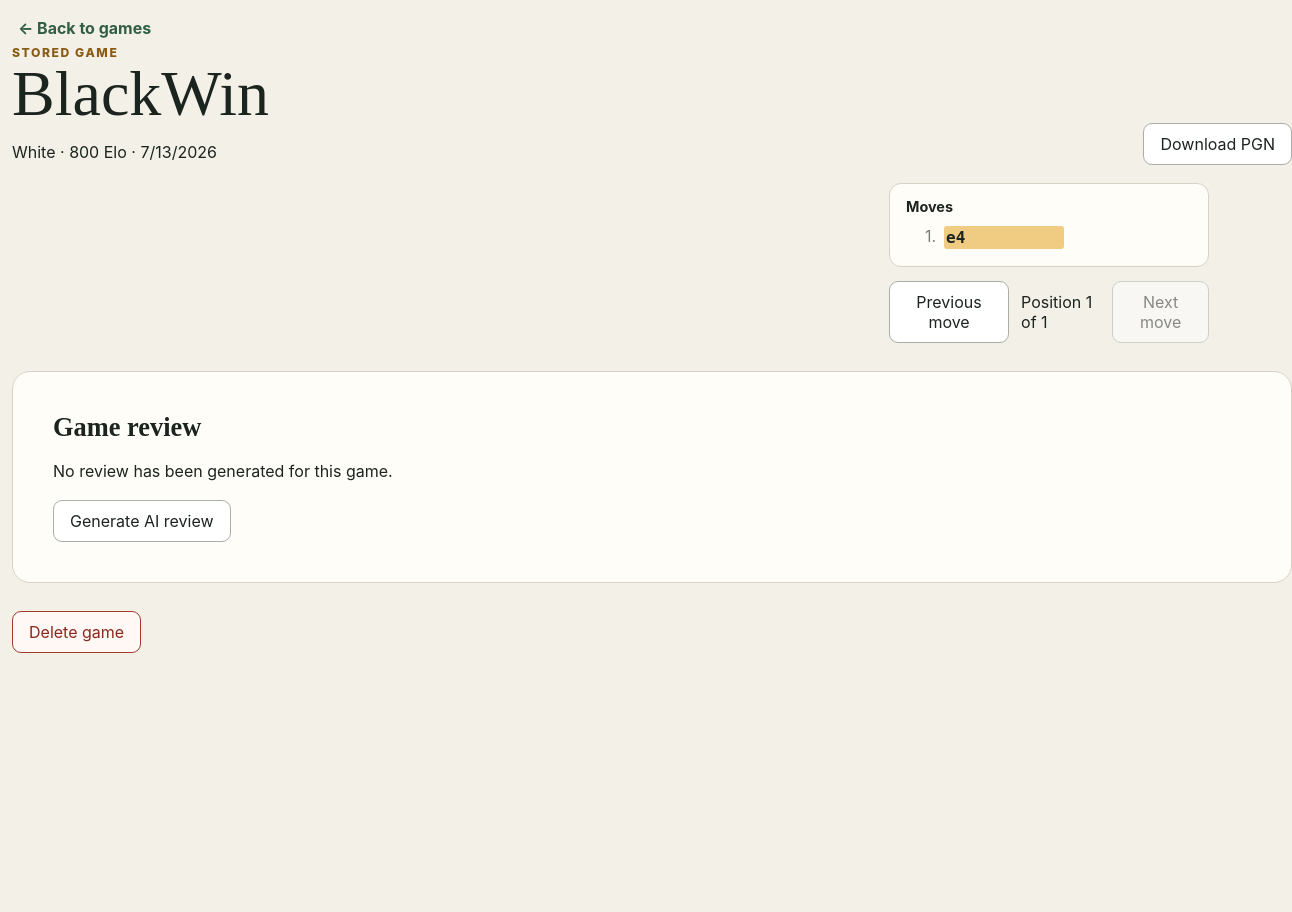
Test: generates a missing review only after the explicit action
Click the button "Generate AI review" at (142, 521), box [53,500,231,542]
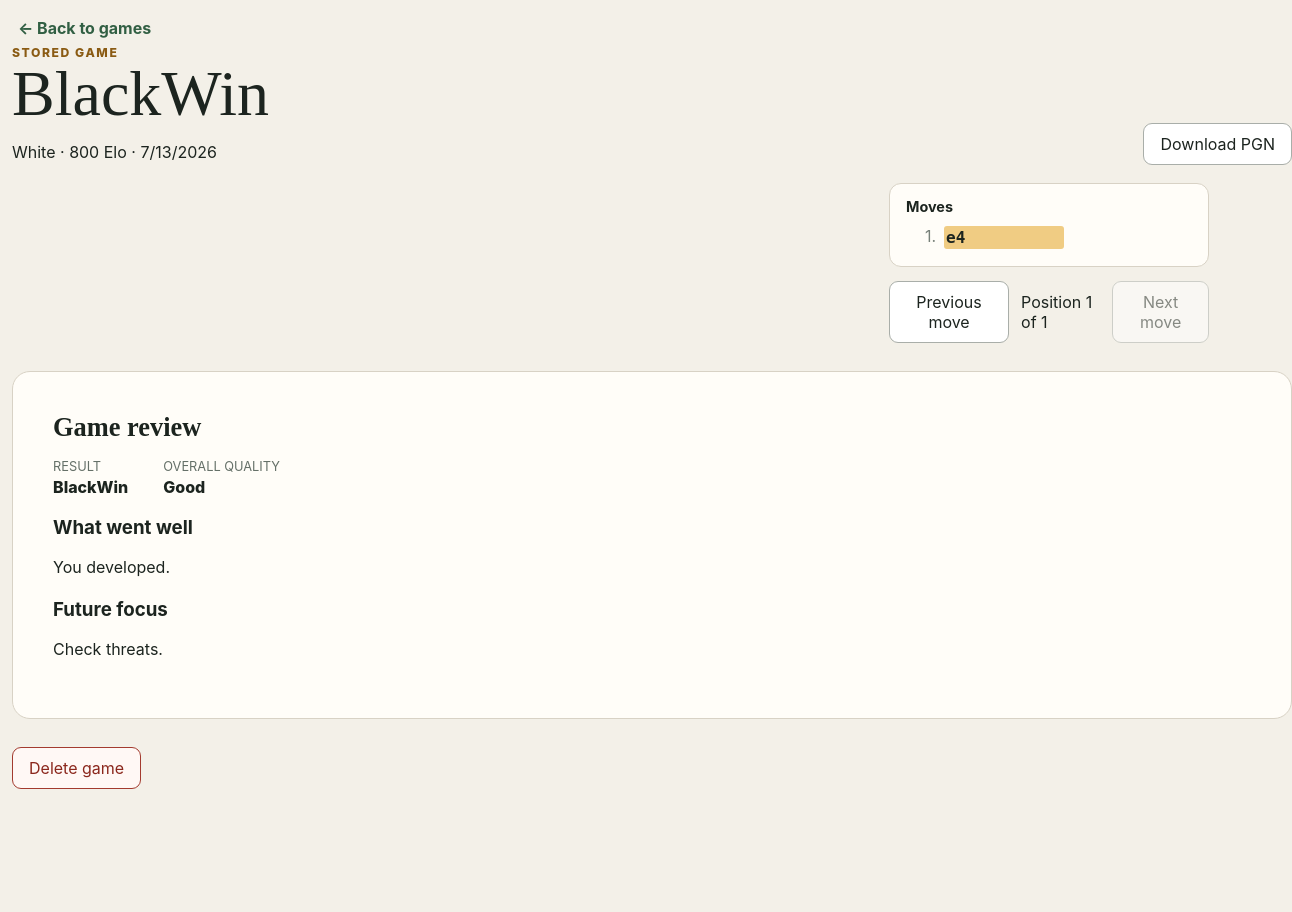
Expected: the heading "What went well" is shown, [53,516,193,539]
